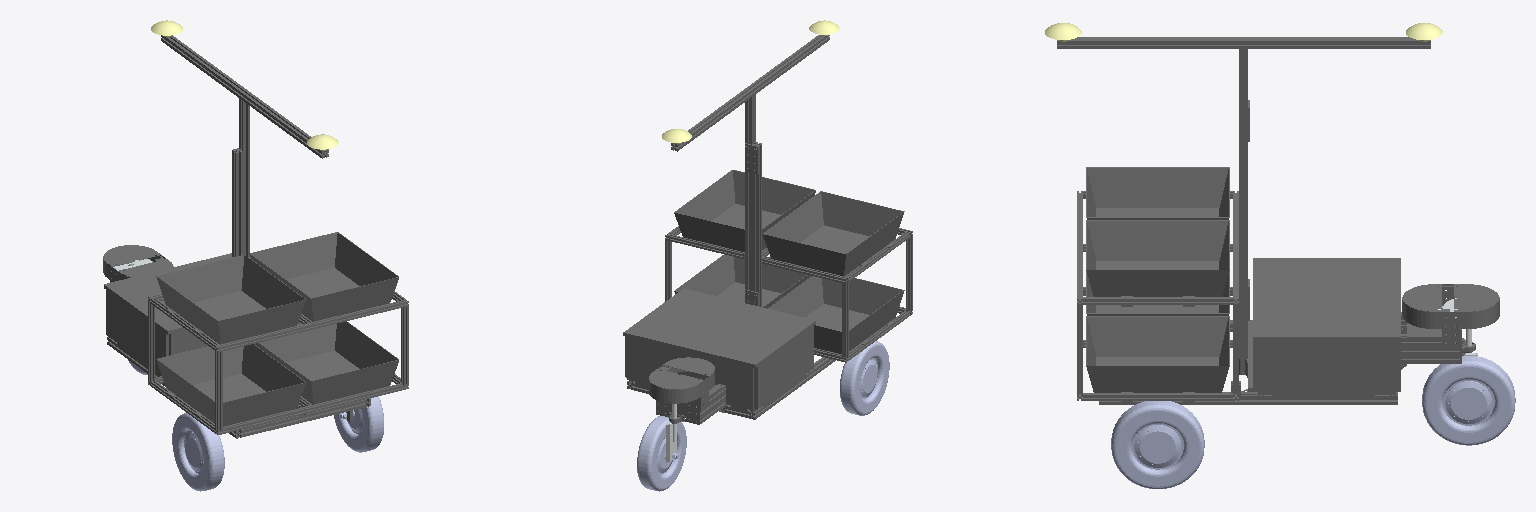
URDF robot description (grapebot):
<?xml version="1.0" encoding="utf-8"?>
<!-- This URDF was automatically created by SolidWorks to URDF Exporter! Originally created by [author] ([email redacted]) 
     Commit Version: 1.5.1-0-g916b5db  Build Version: 1.5.7152.31018
     For more information, please see http://wiki.ros.org/sw_urdf_exporter -->
<robot
  name="grapebot">

  <gazebo>
      <plugin name="gazebo_ros_control" filename="libgazebo_ros_control.so">
          <robotNamespace>/grapebot</robotNamespace>
          <legacyModeNS>true</legacyModeNS>
      </plugin>
  </gazebo>


<!-- - - - - - -  Link - - - - - - - - -->

  <link name="dummy">
   </link>


<!-- - - - - - -  Link - - - - - - - - -->

  <link
    name="grapebot/base_link">
    <inertial>
      <origin
        xyz="0.04503 0.18197 0.22262"
        rpy="0 0 0" />
      <mass
        value="94.942" />
      <inertia
        ixx="2.8744"
        ixy="-0.0027752"
        ixz="0.0014785"
        iyy="2.8391"
        iyz="-9.9062E-06"
        izz="4.0824" />
    </inertial>
    <visual>
      <origin
        xyz="0 0 0"
        rpy="0 0 0" />
      <geometry>
        <mesh
          filename="package://grapebot_gazebo_sim/meshes/grapebot_base_link.STL" />
      </geometry>
      <material
        name="">
        <color
          rgba="0.49804 0.49804 0.49804 1" />
      </material>
    </visual>
    <collision>
      <origin
        xyz="0 0 0"
        rpy="0 0 0" />
      <geometry>
        <mesh
          filename="package://grapebot_gazebo_sim/meshes/grapebot_base_link.STL" />
      </geometry>
    </collision>
  </link>

<!-- Joint -->

<joint name="dummy_joint" type="fixed">
     <parent link="dummy"/>
     <child link="grapebot/base_link"/>
   </joint>
  

<!-- - - - - - -  Link - - - - - - - - -->

  <link
    name="front_imu">
    <inertial>
      <origin
        xyz="5.1001E-15 0.035764 -2.2204E-16"
        rpy="0 0 0" />
      <mass
        value="0.41665" />
      <inertia
        ixx="0.00041463"
        ixy="3.1361E-20"
        ixz="-2.4992E-21"
        iyy="0.0006824"
        iyz="-2.7138E-21"
        izz="0.00041463" />
    </inertial>
    <visual>
      <origin
        xyz="0 0 0"
        rpy="0 0 0" />
      <geometry>
        <mesh
          filename="package://grapebot_gazebo_sim/meshes/front_imu.STL" />
      </geometry>
      <material
        name="">
        <color
          rgba="1 1 0.75294 1" />
      </material>
    </visual>
    <collision>
      <origin
        xyz="0 0 0"
        rpy="0 0 0" />
      <geometry>
        <mesh
          filename="package://grapebot_gazebo_sim/meshes/front_imu.STL" />
      </geometry>
    </collision>
  </link>

<!-- Joint -->

  <joint
    name="front_imu_joint"
    type="fixed">
    <origin
      xyz="0.049611 0.72299 1.4678"
      rpy="1.5708 0 3.1416" />
    <parent
      link="grapebot/base_link" />
    <child
      link="front_imu" />
    <axis
      xyz="0 0 0" />
  </joint>


<!-- - - - - - -  Link - - - - - - - - -->

  <link
    name="rear_imu">
    <inertial>
      <origin
        xyz="0 0.035764 0"
        rpy="0 0 0" />
      <mass
        value="0.41665" />
      <inertia
        ixx="0.00041463"
        ixy="3.2406E-21"
        ixz="-5.0822E-21"
        iyy="0.0006824"
        iyz="-8.1583E-21"
        izz="0.00041463" />
    </inertial>
    <visual>
      <origin
        xyz="0 0 0"
        rpy="0 0 0" />
      <geometry>
        <mesh
          filename="package://grapebot_gazebo_sim/meshes/rear_imu.STL" />
      </geometry>
      <material
        name="">
        <color
          rgba="1 1 0.75294 1" />
      </material>
    </visual>
    <collision>
      <origin
        xyz="0 0 0"
        rpy="0 0 0" />
      <geometry>
        <mesh
          filename="package://grapebot_gazebo_sim/meshes/rear_imu.STL" />
      </geometry>
    </collision>
  </link>

<!-- Joint -->

  <joint
    name="rear_imu_joint"
    type="fixed">
    <origin
      xyz="0.049611 -0.74801 1.4678"
      rpy="1.5708 0 3.1416" />
    <parent
      link="grapebot/base_link" />
    <child
      link="rear_imu" />
    <axis
      xyz="0 0 0" />
  </joint>


<!-- - - - - - -  Link - - - - - - - - -->

  <link
    name="front_wheel_axis">
    <inertial>
      <origin
        xyz="0.0021751 -0.12024 4.0859E-05"
        rpy="0 0 0" />
      <mass
        value="4.7785" />
      <inertia
        ixx="0.017515"
        ixy="-5.8949E-05"
        ixz="-3.1045E-08"
        iyy="0.013329"
        iyz="4.0488E-06"
        izz="0.017158" />
    </inertial>
    <visual>
      <origin
        xyz="0 0 0"
        rpy="0 0 0" />
      <geometry>
        <mesh
          filename="package://grapebot_gazebo_sim/meshes/front_wheel_axis.STL" />
      </geometry>
      <material
        name="">
        <color
          rgba="0.89804 0.91765 0.92941 1" />
      </material>
    </visual>
    <collision>
      <origin
        xyz="0 0 0"
        rpy="0 0 0" />
      <geometry>
        <mesh
          filename="package://grapebot_gazebo_sim/meshes/front_wheel_axis.STL" />
      </geometry>
    </collision>
  </link>

<!-- Joint -->

  <joint
    name="front_wheel_axis_joint"
    type="revolute">
    <origin
      xyz="-0.043219 0.90506 0.25282"
      rpy="1.5708 0 0" />
    <parent
      link="grapebot/base_link" />
    <child
      link="front_wheel_axis" />
    <axis
      xyz="0 1 0" />
    <limit
      lower="-0.78"
      upper="0.78"
      effort="100.0"
      velocity="100.0" />

    <dynamics 
      damping = "0.1"
      friction = "0.1"/>  
  </joint>

  <transmission name="tran4">
      <type>transmission_interface/SimpleTransmission</type>
      <joint name="front_wheel_axis_joint">
          <hardwareInterface>hardware_interface/EffortJointInterface</hardwareInterface>
      </joint>
      <actuator name="motor4">
          <hardwareInterface>hardware_interface/EffortJointInterface</hardwareInterface>
          <mechanicalReduction>1</mechanicalReduction>
      </actuator>
  </transmission> 

<!-- - - - - - -  Link - - - - - - - - -->

  <link
    name="front_wheel">
    <inertial>
      <origin
        xyz="0.092645 2.4182E-09 9.3253E-09"
        rpy="0 0 0" />
      <mass
        value="8.3099" />
      <inertia
        ixx="0.15838"
        ixy="2.4123E-10"
        ixz="9.7714E-10"
        iyy="0.083316"
        iyz="-3.2677E-10"
        izz="0.083316" />
    </inertial>
    <visual>
      <origin
        xyz="0 0 0"
        rpy="0 0 0" />
      <geometry>
        <mesh
          filename="package://grapebot_gazebo_sim/meshes/front_wheel.STL" />
      </geometry>
      <material
        name="">
        <color
          rgba="0.79216 0.81961 0.93333 1" />
      </material>
    </visual>
    <collision>
      <origin
        xyz="0 0 0"
        rpy="0 0 0" />
      <geometry>
        <mesh
          filename="package://grapebot_gazebo_sim/meshes/front_wheel.STL" />
      </geometry>
    </collision>
  </link>

<!-- Joint -->

  <joint
    name="front_wheel_joint"
    type="continuous">
    <origin
      xyz="-0.01952 -0.4191 0"
      rpy="0 0 0" />
    <parent
      link="front_wheel_axis" />
    <child
      link="front_wheel" />
    <axis
      xyz="-1 0 0" />
    <limit
      effort="100.0"
      velocity="100.0" />
    <dynamics 
      damping = "0.1"
      friction = "0.1"/>   
  </joint>

  <transmission name="tran1">
      <type>transmission_interface/SimpleTransmission</type>
      <joint name="front_wheel_joint">
          <hardwareInterface>hardware_interface/VelocityJointInterface</hardwareInterface>
      </joint>
      <actuator name="motor1">
          <hardwareInterface>hardware_interface/VelocityJointInterface</hardwareInterface>
          <mechanicalReduction>1</mechanicalReduction>
      </actuator>
  </transmission>  


<!-- - - - - - -  Link - - - - - - - - -->

  <link
    name="back_right_wheel">
    <inertial>
      <origin
        xyz="0.092645 9.2768E-09 -2.7104E-09"
        rpy="0 0 0" />
      <mass
        value="8.3099" />
      <inertia
        ixx="0.15838"
        ixy="9.6945E-10"
        ixz="-2.7051E-10"
        iyy="0.083316"
        iyz="-3.5855E-08"
        izz="0.083316" />
    </inertial>
    <visual>
      <origin
        xyz="0 0 0"
        rpy="0 0 0" />
      <geometry>
        <mesh
          filename="package://grapebot_gazebo_sim/meshes/back_right_wheel.STL" />
      </geometry>
      <material
        name="">
        <color
          rgba="0.79216 0.81961 0.93333 1" />
      </material>
    </visual>
    <collision>
      <origin
        xyz="0 0 0"
        rpy="0 0 0" />
      <geometry>
        <mesh
          filename="package://grapebot_gazebo_sim/meshes/back_right_wheel.STL" />
      </geometry>
    </collision>
  </link>

<!-- Joint -->

  <joint
    name="back_right_wheel_joint"
    type="continuous">
    <origin
      xyz="0.37299 -0.36176 -0.16016"
      rpy="1.5708 0 0" />
    <parent
      link="grapebot/base_link" />
    <child
      link="back_right_wheel" />
    <axis
      xyz="-1 0 0" />
    <limit
      effort="100.0"
      velocity="100.0" />

    <dynamics 
      damping = "0.1"
      friction = "0.1"/> 
  </joint>


  <transmission name="tran2">
      <type>transmission_interface/SimpleTransmission</type>
      <joint name="back_right_wheel_joint">
          <hardwareInterface>hardware_interface/VelocityJointInterface</hardwareInterface>
      </joint>
      <actuator name="motor2">
          <hardwareInterface>hardware_interface/VelocityJointInterface</hardwareInterface>
          <mechanicalReduction>1</mechanicalReduction>
      </actuator>
  </transmission> 

<!-- - - - - - -  Link - - - - - - - - -->

  <link
    name="back_left_wheel">
    <inertial>
      <origin
        xyz="-0.092645 9.2768E-09 -2.7104E-09"
        rpy="0 0 0" />
      <mass
        value="8.3099" />
      <inertia
        ixx="0.15838"
        ixy="9.6945E-10"
        ixz="-2.7051E-10"
        iyy="0.083316"
        iyz="-3.5855E-08"
        izz="0.083316" />
    </inertial>
    <visual>
      <origin
        xyz="0 0 0"
        rpy="0 0 0" />
      <geometry>
        <mesh
          filename="package://grapebot_gazebo_sim/meshes/back_left_wheel.STL" />
      </geometry>
      <material
        name="">
        <color
          rgba="0.79216 0.81961 0.93333 1" />
      </material>
    </visual>
    <collision>
      <origin
        xyz="0 0 0"
        rpy="0 0 0" />
      <geometry>
        <mesh
          filename="package://grapebot_gazebo_sim/meshes/back_left_wheel.STL" />
      </geometry>
    </collision>
  </link>

<!-- Joint -->

  <joint
    name="back_left_wheel_joint"
    type="continuous">
    <origin
      xyz="-0.31187 -0.36176 -0.16016"
      rpy="1.5708 0 0" />
    <parent
      link="grapebot/base_link" />
    <child
      link="back_left_wheel" />
    <axis
      xyz="-1 0 0" />
    <limit
      effort="100.0"
      velocity="100.0" />
    <dynamics 
      damping = "0.1"
      friction = "0.1"/>  
  </joint>

  <transmission name="tran3">
      <type>transmission_interface/SimpleTransmission</type>
      <joint name="back_left_wheel_joint">
          <hardwareInterface>hardware_interface/VelocityJointInterface</hardwareInterface>
      </joint>
      <actuator name="motor3">
          <hardwareInterface>hardware_interface/VelocityJointInterface</hardwareInterface>
          <mechanicalReduction>1</mechanicalReduction>
      </actuator>
  </transmission> 

<!-- Camera -->
<!--  <gazebo reference="camera_link">
    <sensor type="camera" name="camera1">
      <update_rate>15.0</update_rate>
      <camera name="head">

          <pose>0 0 0 0 0 1.57</pose>

        <horizontal_fov>1.3962634</horizontal_fov>
        <image>
          <width>400</width>
          <height>400</height>
          <format>R8G8B8</format>
        </image>
        <clip>
          <near>0.01</near>
          <far>100</far>
        </clip>
        <noise>
          <type>gaussian</type>
          <stddev>0.007</stddev>
        </noise>
      </camera>
      <plugin name="camera_controller" filename="libgazebo_ros_camera.so">
        <alwaysOn>true</alwaysOn>
        <updateRate>0.0</updateRate>
        <cameraName>mira/camera1</cameraName>
        <imageTopicName>image_raw</imageTopicName>
        <cameraInfoTopicName>camera_info</cameraInfoTopicName>
        <frameName>camera_link</frameName>
        <hackBaseline>0.07</hackBaseline>
        <distortionK1>0.0</distortionK1>
        <distortionK2>0.0</distortionK2>
        <distortionK3>0.0</distortionK3>
        <distortionT1>0.0</distortionT1>
        <distortionT2>0.0</distortionT2>
      </plugin>
    </sensor>
  </gazebo> -->



</robot>

--- Facts derived from the render (not from the file) ---
The picture shows the robot from 3 angles, left to right: view 1: azimuth 30°, elevation 25°; view 2: azimuth 150°, elevation 25°; view 3: azimuth 270°, elevation 25°; orthographic projection.
Robot: grapebot — 8 links, 7 joints (1 revolute, 3 continuous, 3 fixed); root link dummy; default pose: all joints at 0.
Visible links, largest first — view 1: grapebot/base_link, back_left_wheel, back_right_wheel; view 2: grapebot/base_link, back_left_wheel, front_wheel; view 3: grapebot/base_link, back_right_wheel, front_wheel.
Link boxes in pixels (x1,y1,x2,y2): grapebot/base_link: (103, 35, 408, 438); back_left_wheel: (172, 413, 224, 491); back_right_wheel: (334, 396, 383, 452); grapebot/base_link: (623, 35, 912, 424); back_left_wheel: (840, 341, 889, 415); front_wheel: (637, 416, 686, 491); grapebot/base_link: (1057, 37, 1499, 404); back_right_wheel: (1111, 401, 1204, 488); front_wheel: (1422, 356, 1515, 445).
Bounding box of the posed robot: 1.04 × 1.92 × 1.89 m (x, y, z).
Meshes: 7 distinct files referenced, 7 mesh visuals loaded (7 binary STL).
